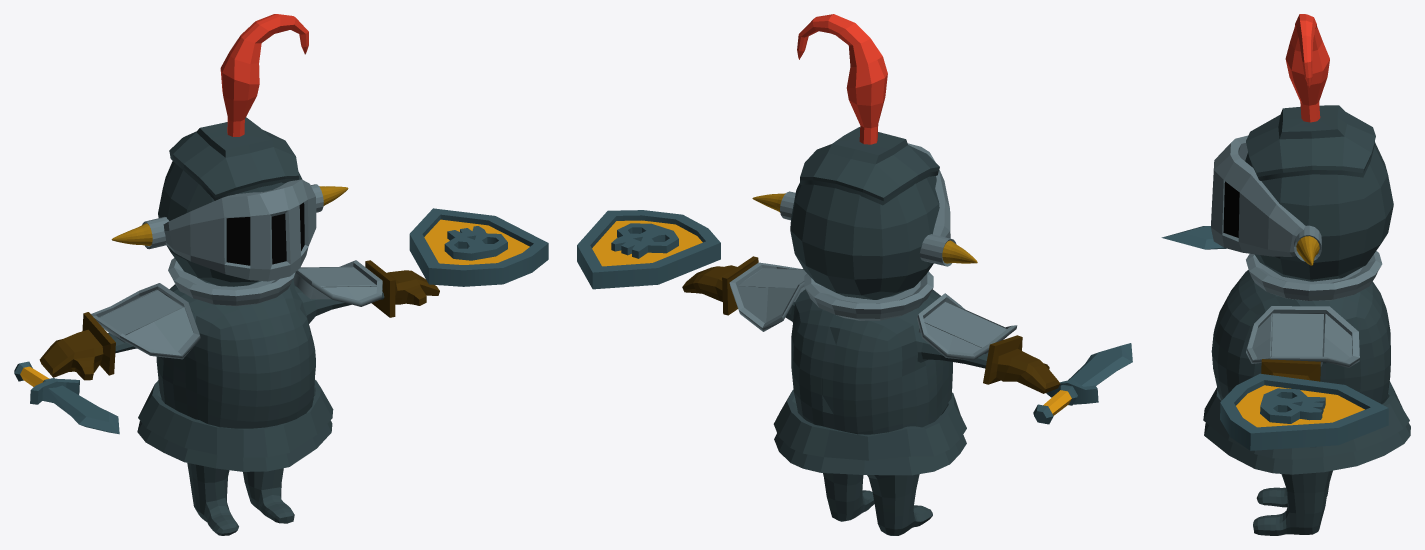
File: player1.glb
3 views of the same model, side by side, from view 1: azimuth 30°, elevation 25°; view 2: azimuth 150°, elevation 25°; view 3: azimuth 270°, elevation 25° (orthographic). The views are drawn at different scales.
Parts seen in each view (by area): view 1: BODY_ARMOR.010_4, BODY_ARMOR.001_12, BODY_ARMOR.004_1, BODY_ARMOR.012_6, BODY_ARMOR.016_9, BODY_ARMOR.002_0, Weapon34_11, BODY_ARMOR.005_2, BODY_ARMOR.009_3, BODY_ARMOR.014_7, BODY_ARMOR.011_5, BODY_ARMOR.015_8; view 2: BODY_ARMOR.010_4, BODY_ARMOR.001_12, BODY_ARMOR.012_6, BODY_ARMOR.016_9, BODY_ARMOR.005_2, Weapon34_11, BODY_ARMOR.002_0, BODY_ARMOR.014_7, BODY_ARMOR.015_8, BODY_ARMOR.004_1, BODY_ARMOR.011_5; view 3: BODY_ARMOR.001_12, BODY_ARMOR.010_4, BODY_ARMOR.012_6, BODY_ARMOR.004_1, BODY_ARMOR.016_9, BODY_ARMOR.005_2, BODY_ARMOR.014_7, Weapon34_11, BODY_ARMOR.009_3, BODY_ARMOR.011_5, BODY_ARMOR.015_8.
Boxes of the visible parts, x1,y1,x2,y2 form: BODY_ARMOR.010_4: (91,260,382,471); BODY_ARMOR.001_12: (108,161,548,535); BODY_ARMOR.004_1: (163,179,316,281); BODY_ARMOR.012_6: (169,117,298,200); BODY_ARMOR.016_9: (220,14,308,136); BODY_ARMOR.002_0: (39,312,115,380); Weapon34_11: (14,361,119,434); BODY_ARMOR.005_2: (168,258,295,306); BODY_ARMOR.009_3: (226,202,304,265); BODY_ARMOR.014_7: (365,260,439,317); BODY_ARMOR.011_5: (111,186,348,245); BODY_ARMOR.015_8: (142,184,323,249); BODY_ARMOR.010_4: (729,262,1017,475); BODY_ARMOR.001_12: (577,176,988,535); BODY_ARMOR.012_6: (800,127,939,205); BODY_ARMOR.016_9: (797,14,887,144); BODY_ARMOR.005_2: (804,271,933,320); Weapon34_11: (1033,343,1132,424); BODY_ARMOR.002_0: (983,335,1060,393); BODY_ARMOR.014_7: (682,256,758,315); BODY_ARMOR.015_8: (780,191,956,266); BODY_ARMOR.004_1: (907,143,950,238); BODY_ARMOR.011_5: (752,193,977,263); BODY_ARMOR.001_12: (1220,142,1393,535); BODY_ARMOR.010_4: (1203,270,1410,474); BODY_ARMOR.012_6: (1246,105,1375,180); BODY_ARMOR.004_1: (1211,135,1305,256); BODY_ARMOR.016_9: (1285,14,1329,122); BODY_ARMOR.005_2: (1246,251,1382,300); BODY_ARMOR.014_7: (1261,359,1320,381); Weapon34_11: (1161,226,1226,249); BODY_ARMOR.009_3: (1223,181,1239,237); BODY_ARMOR.011_5: (1296,236,1319,265); BODY_ARMOR.015_8: (1294,225,1321,261).
Size of the model in its own units: 42.45 by 39.82 by 17.33.
